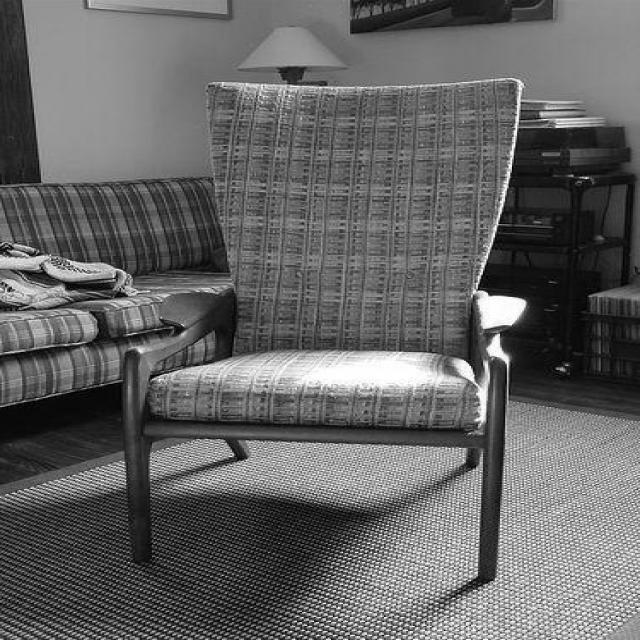chair: (122, 76, 534, 578)
